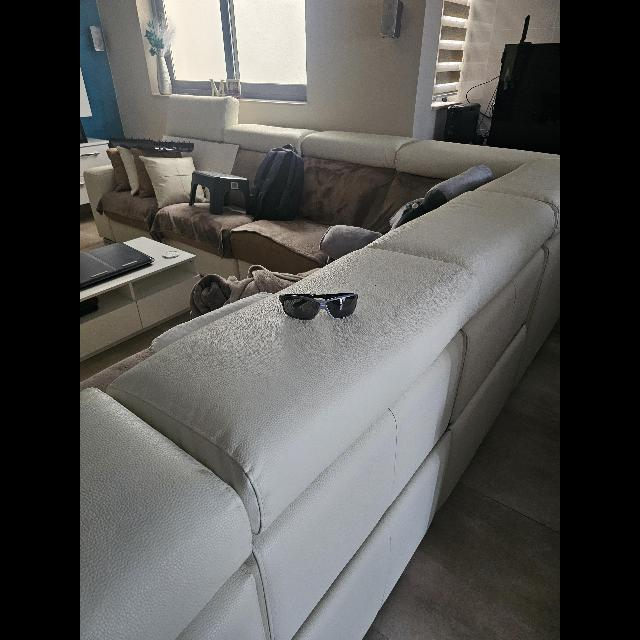Sunglasses: (279, 292, 357, 320)
